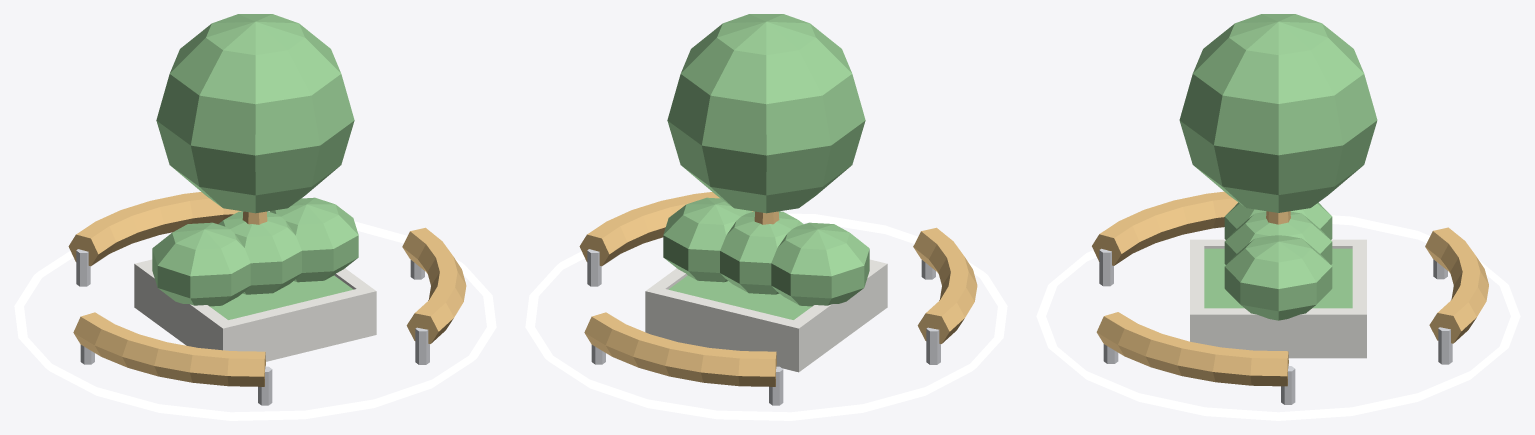
The model's file is arcology-towers-and-skyways-seating-cluster-cb4e5757__23269.glb.
3 renders of one model, left to right at view 1: azimuth 30°, elevation 25°; view 2: azimuth 150°, elevation 25°; view 3: azimuth 270°, elevation 25°, orthographic.
Parts seen in each view (by area): view 1: seating-cluster; view 2: seating-cluster; view 3: seating-cluster.
Boxes of the visible parts, box(x1,y1,x2,y2) form: seating-cluster: box(14, 14, 496, 420); seating-cluster: box(525, 14, 1007, 420); seating-cluster: box(1036, 14, 1520, 420).
Size of the model in its own units: 6.02 by 4.1 by 6.02.
